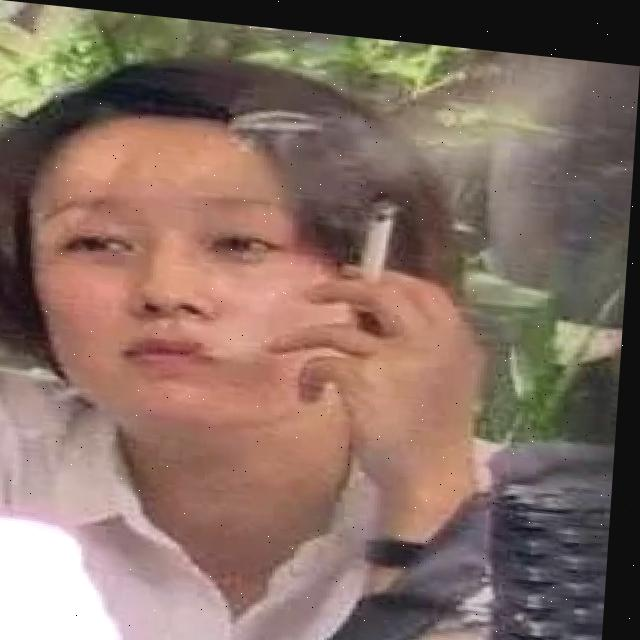cigarette: (365, 193, 397, 279)
